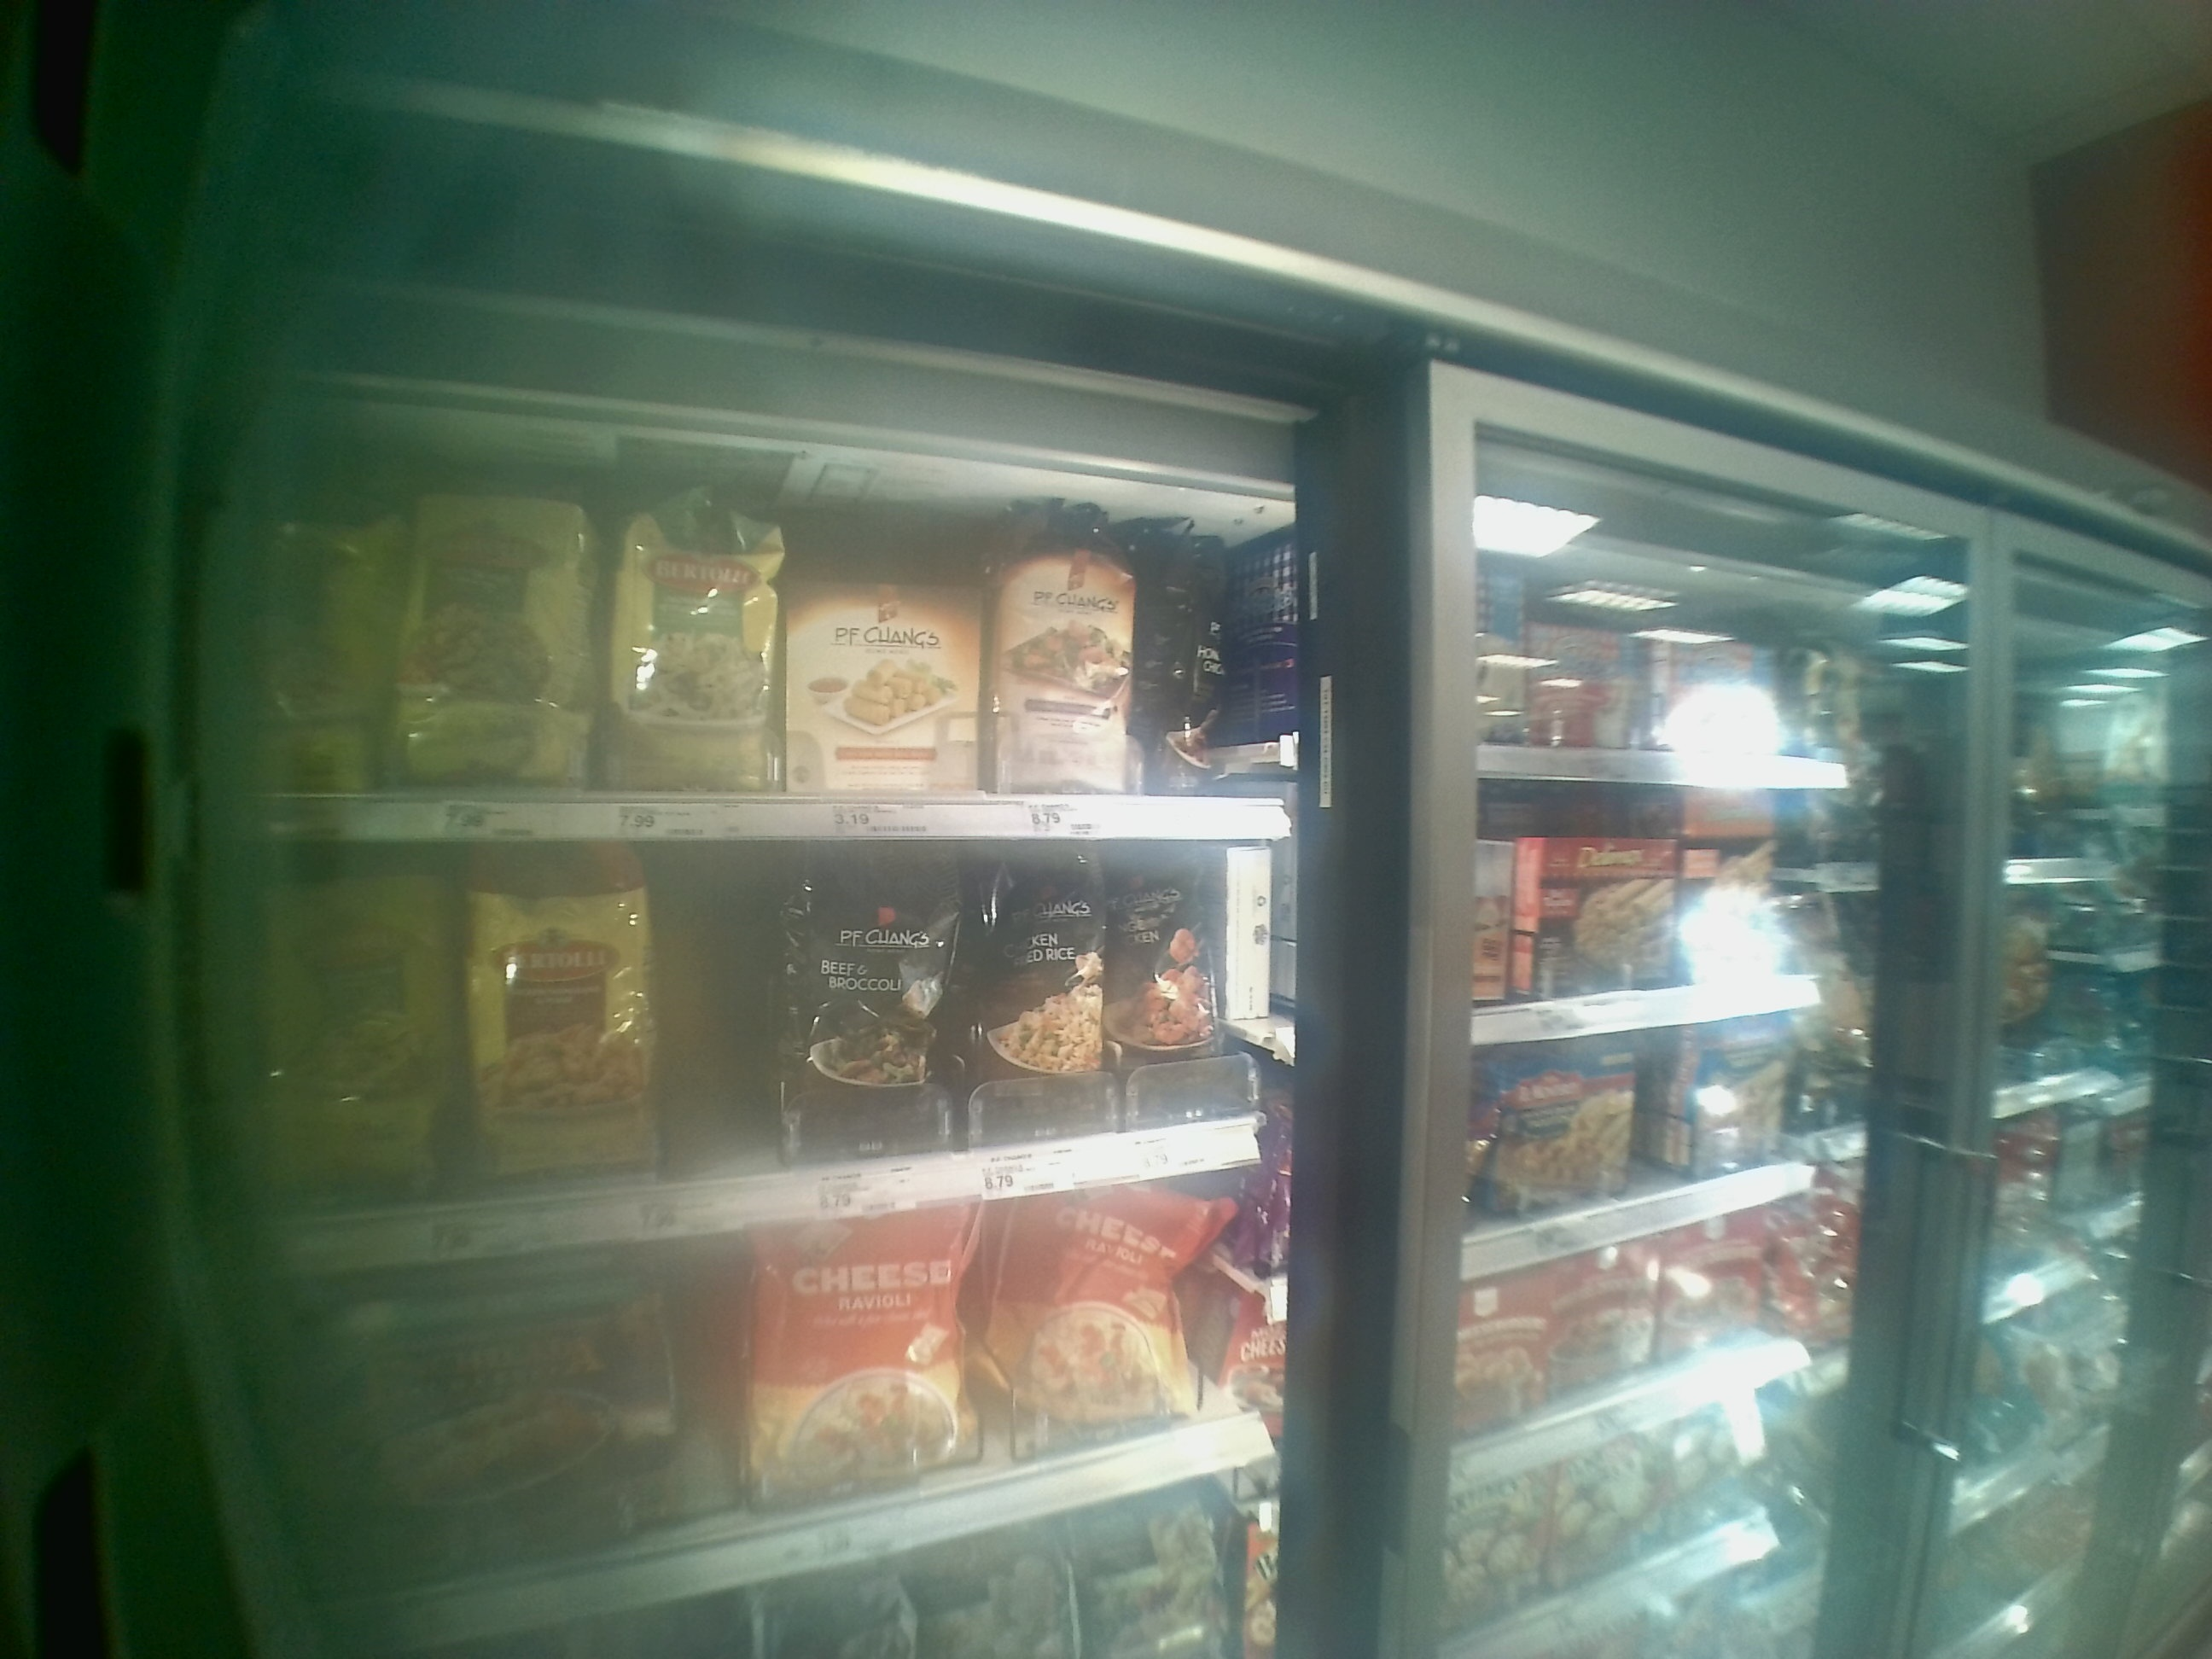shelf: (266, 465, 1278, 847), (275, 854, 1264, 1244)
